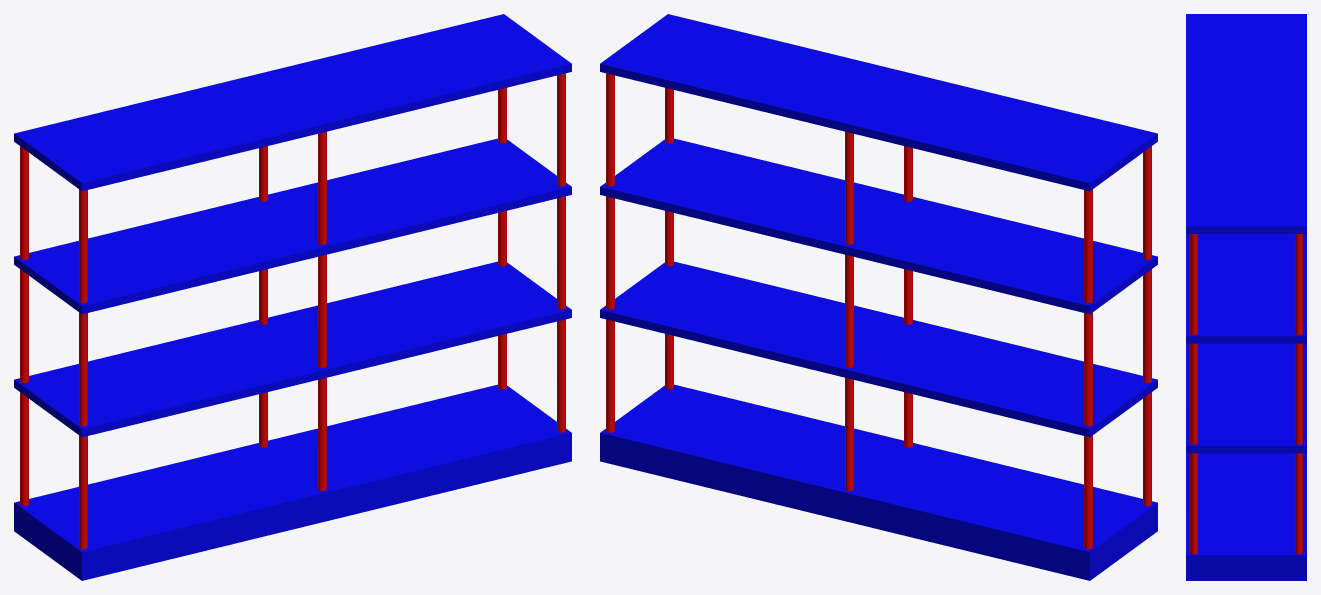
File: Shelf_Metal.fbx
3 views of the same model, side by side, from view 1: azimuth 30°, elevation 25°; view 2: azimuth 150°, elevation 25°; view 3: azimuth 270°, elevation 25° (orthographic). The views are drawn at different scales.
Parts seen in each view (by area): view 1: Cube, Cube_2, Cube_1_2, Cube_0, Cube_1; view 2: Cube, Cube_2, Cube_1_2, Cube_0, Cube_1; view 3: Cube_2, Cube, Cube_0, Cube_1_2, Cube_1.
Boxes of the visible parts, x1,y1,x2,y2 form: Cube: (14,384,571,580); Cube_2: (14,14,571,191); Cube_1_2: (14,138,571,314); Cube_0: (14,261,571,437); Cube_1: (20,73,565,549); Cube: (600,384,1157,580); Cube_2: (600,14,1157,191); Cube_1_2: (600,138,1157,314); Cube_0: (600,261,1157,437); Cube_1: (606,73,1151,549); Cube_2: (1186,14,1306,233); Cube: (1186,453,1306,580); Cube_0: (1186,343,1306,453); Cube_1_2: (1186,234,1306,343); Cube_1: (1190,234,1302,554).
Size of the model in its own units: 125 by 97 by 30.
